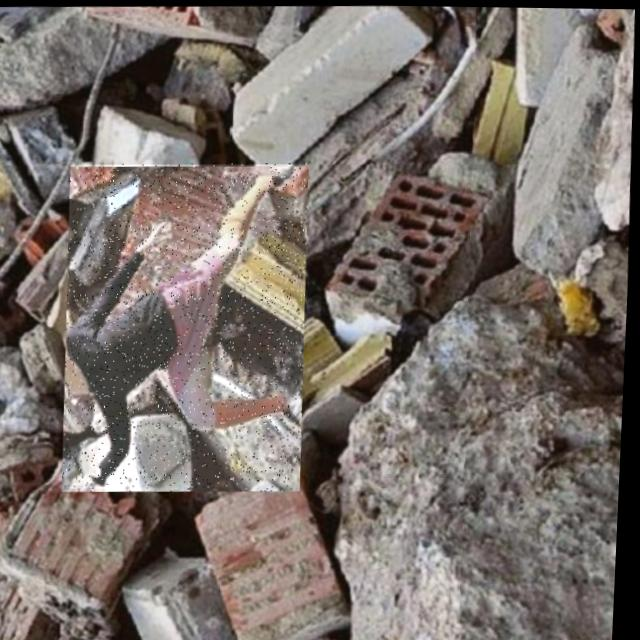Person in Rubble: (60, 157, 316, 492)
